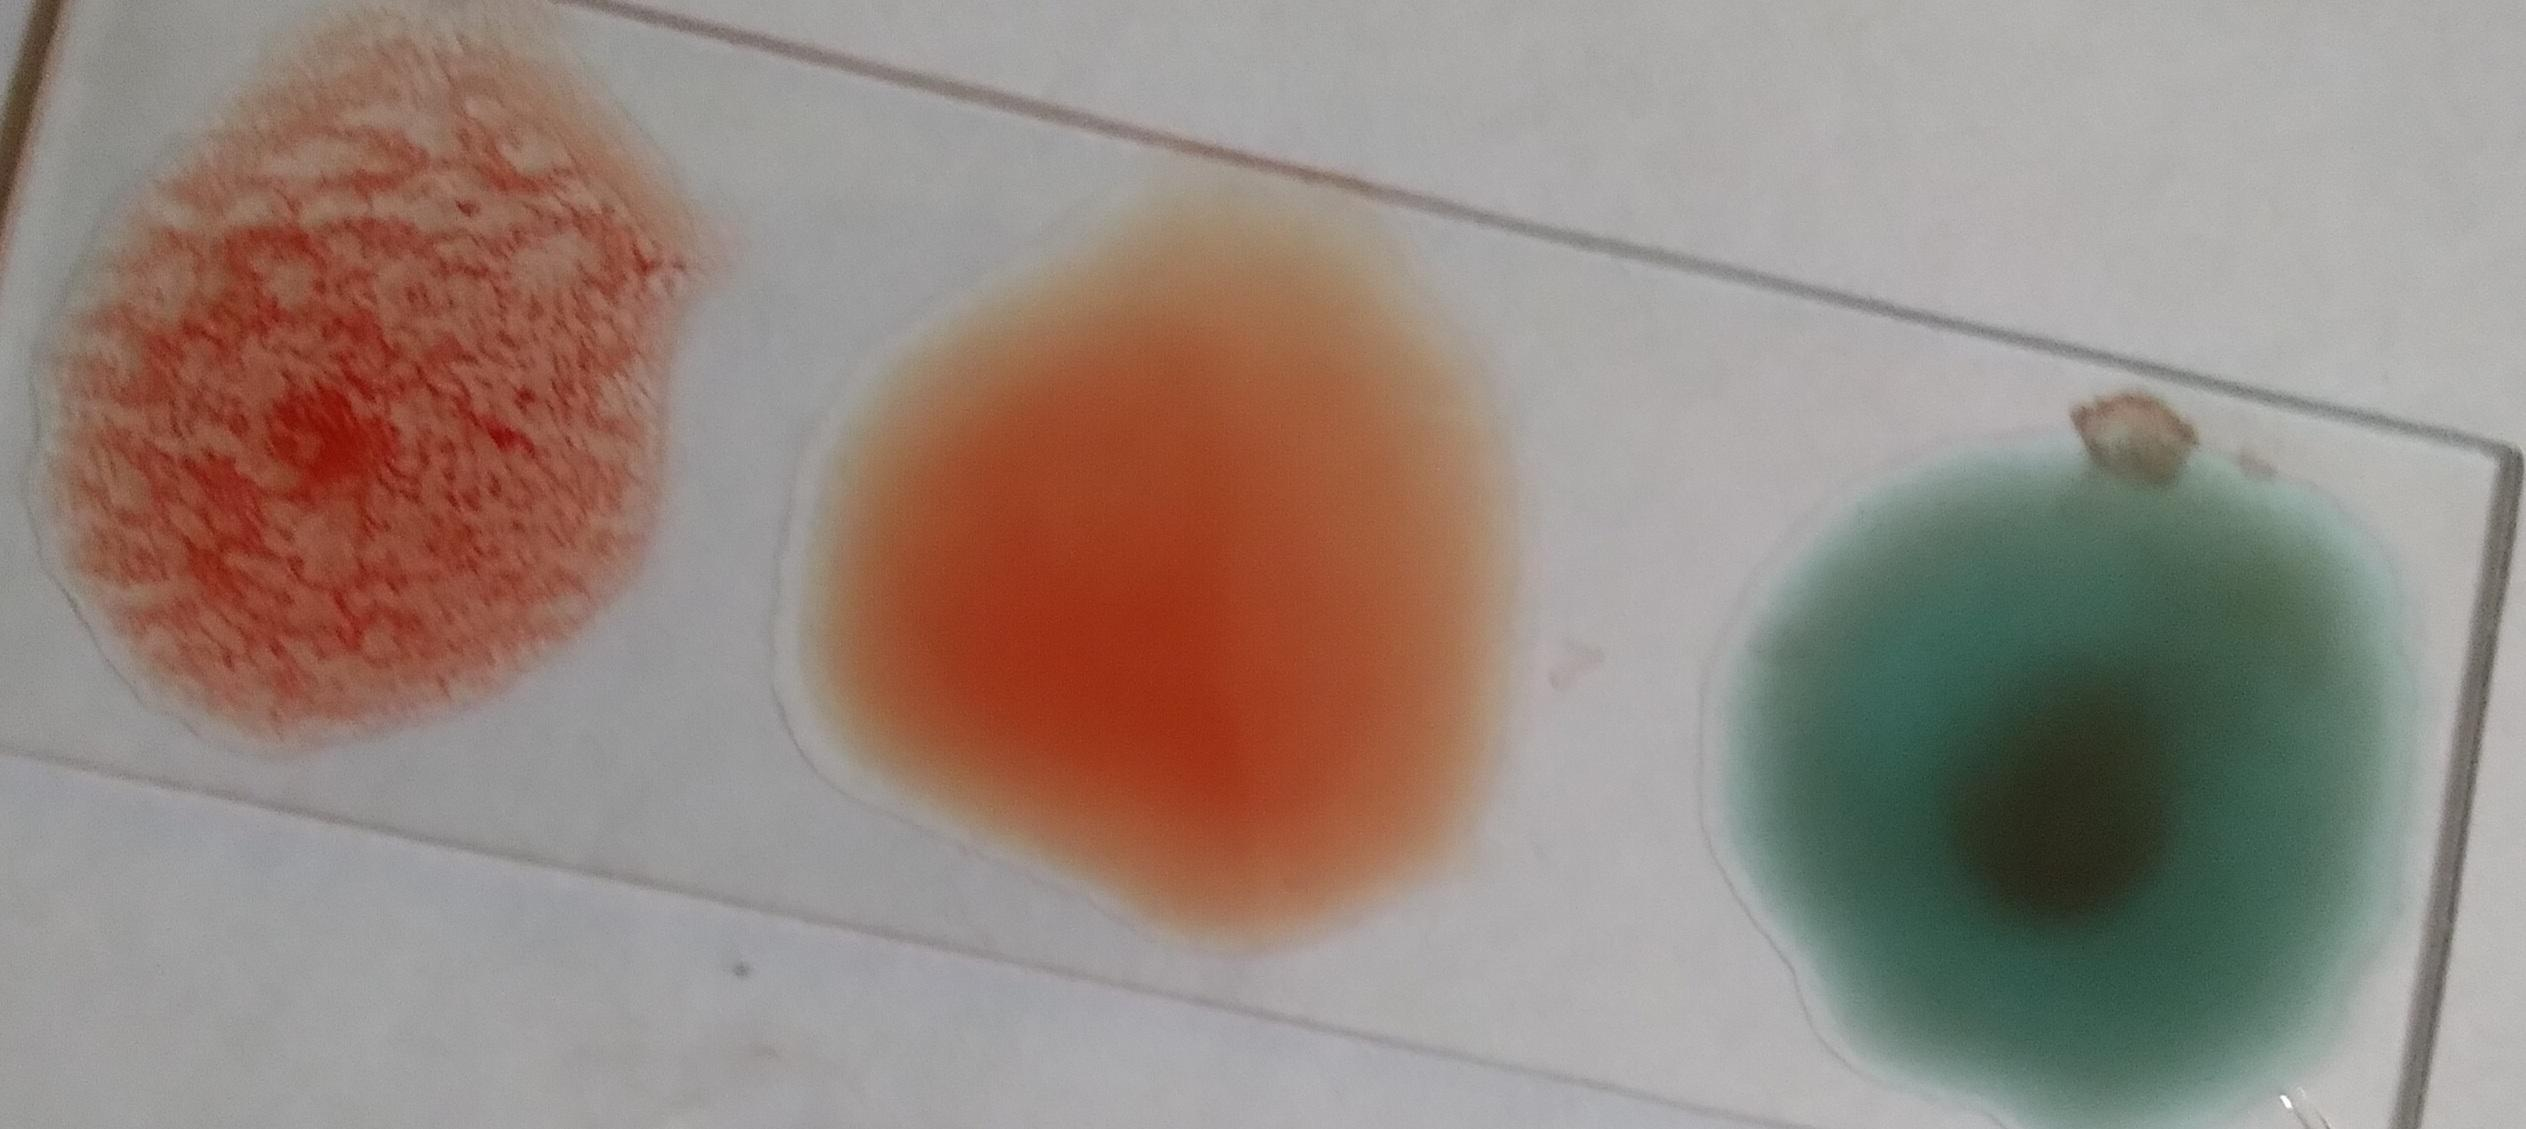D: (85, 8, 636, 746)
